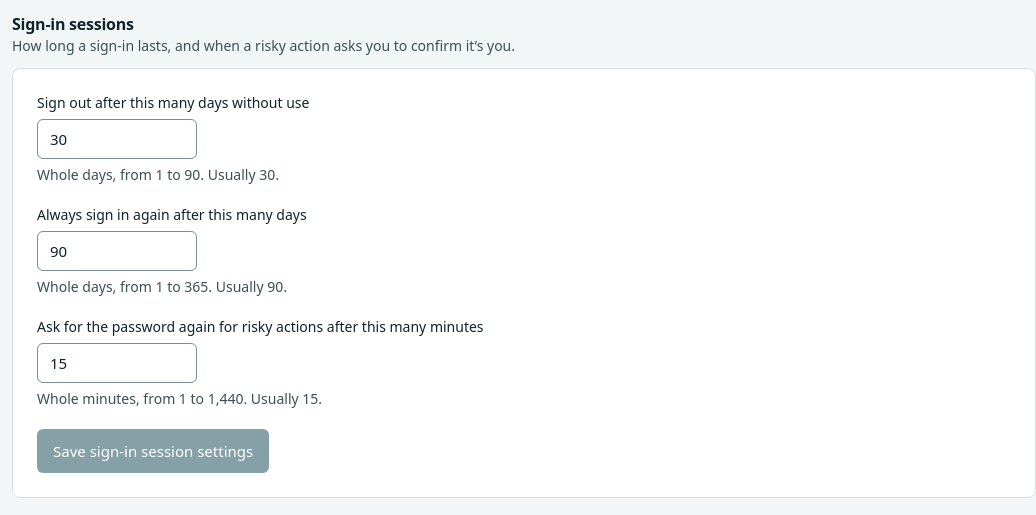
Scenario: sign-in sessions card › saves exactly the three numbers with the revision in If-Match
Replace the text in the number field labelled "Sign out after this many days without use" with "45". click: (117,139)
box: top-left (37, 119), bottom-right (197, 159)
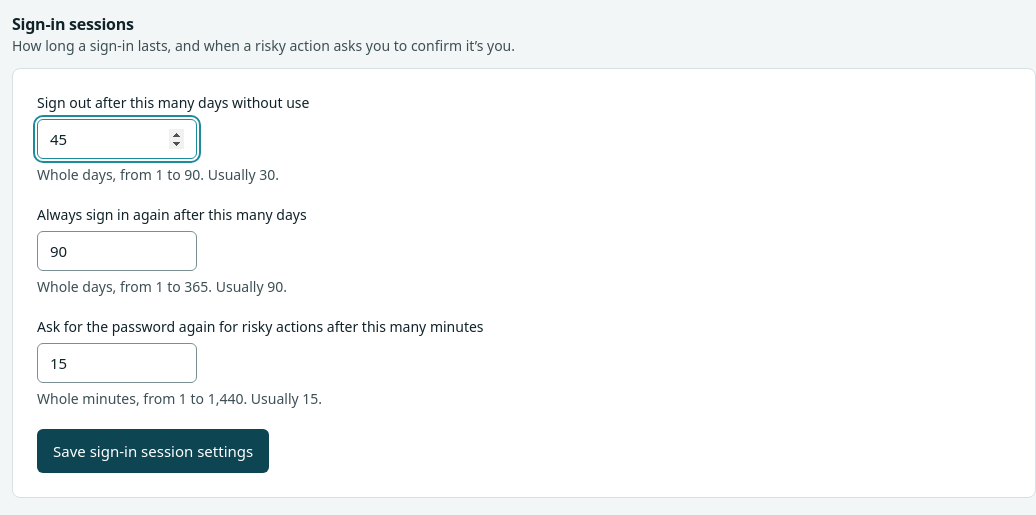
Click the button "Save sign-in session settings". click: (153,451)
box: top-left (37, 429), bottom-right (269, 473)
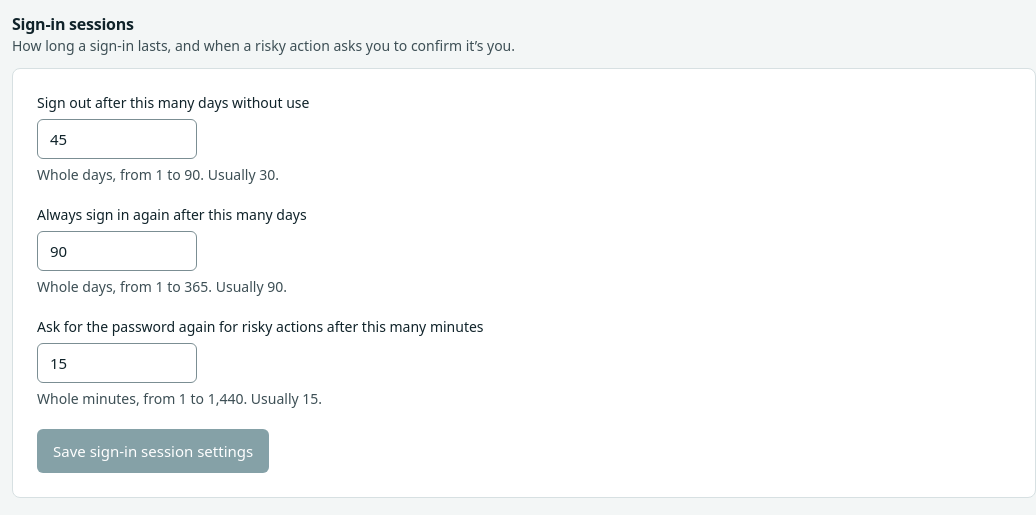
Expected: the number field labelled "Sign out after this many days without use" holds "45", top-left (37, 119), bottom-right (197, 159)
Expected: the button "Save sign-in session settings" is disabled, top-left (37, 429), bottom-right (269, 473)
